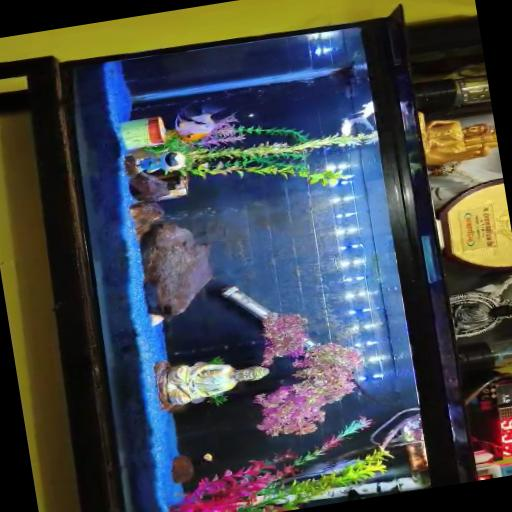Fish: (174, 106, 222, 142), (347, 102, 373, 130), (352, 102, 373, 118), (202, 454, 213, 462)
